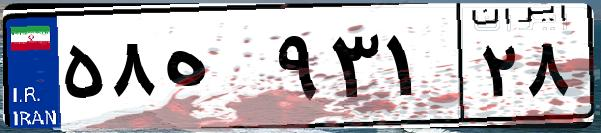1: (385, 28, 445, 110)
2: (475, 38, 525, 113)
3: (330, 28, 385, 110)
5: (57, 26, 110, 100)
8: (525, 38, 570, 115), (110, 28, 158, 98)
9: (270, 28, 330, 110)
ه: (158, 20, 270, 120)
